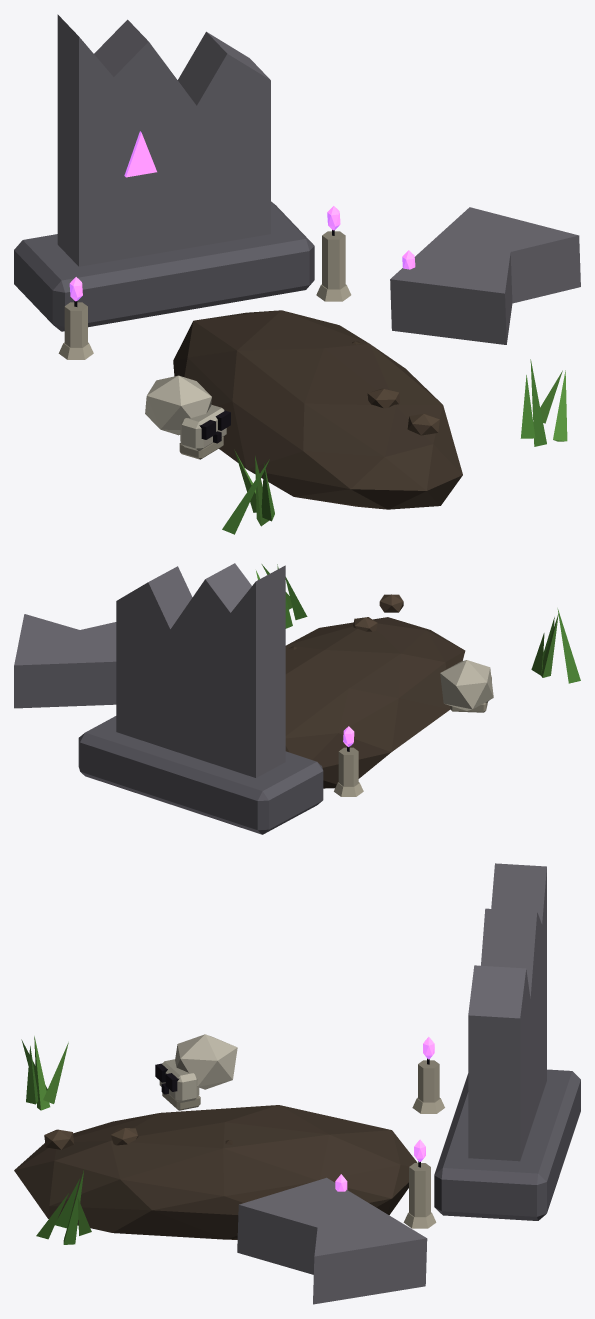
File: grave_3.glb
The picture shows the model from 3 angles, top to bottom: view 1: azimuth 30°, elevation 25°; view 2: azimuth 150°, elevation 25°; view 3: azimuth 270°, elevation 25°; orthographic projection. The views are drawn at different scales.
Visible parts, largest first — view 1: Grave3; view 2: Grave3; view 3: Grave3.
Part boxes in pixels (<box>): Grave3: <box>14,14,580,534</box>; Grave3: <box>14,563,580,834</box>; Grave3: <box>14,863,580,1304</box>.
Size of the model in its own units: 1.24 by 0.8376 by 1.3.
